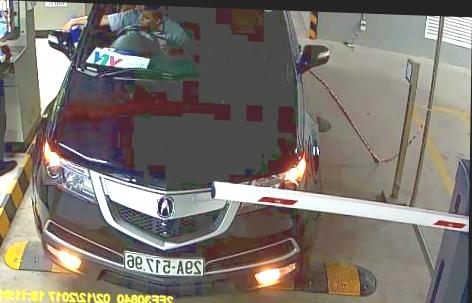License_Plate: (119, 249, 207, 280)
